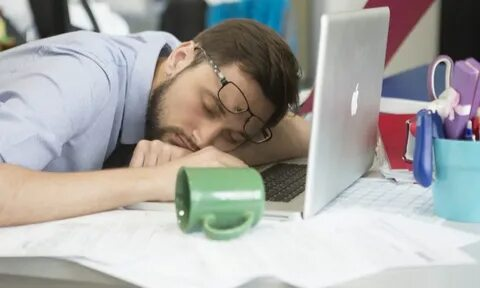sleep: (1, 19, 306, 214)
